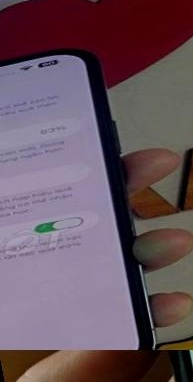scratch: (99, 350, 193, 382)
